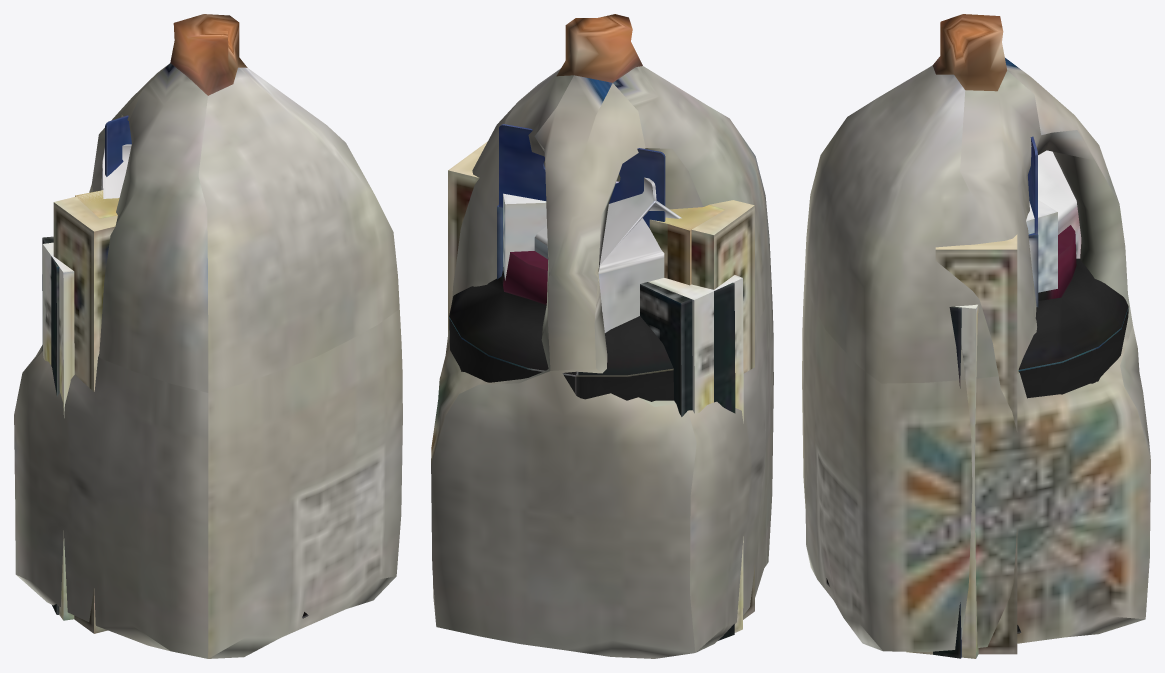
The model's file is sm_products_optimised.glb.
The picture shows the model from 3 angles, left to right: view 1: azimuth 30°, elevation 25°; view 2: azimuth 150°, elevation 25°; view 3: azimuth 270°, elevation 25°; orthographic projection.
Parts seen in each view (by area): view 1: bleach, porridge, cereal, detergent_powder_b, pasta, juice_carton, coffee_box; view 2: bleach, protein_jar, porridge, juice_carton, detergent_powder_b, pasta, cereal, salt, coffee_box; view 3: bleach, protein_jar, porridge, cereal, juice_carton, salt, pasta, detergent_powder_b.
Part boxes in pixels (x1=…): bleach: x1=14, y1=14, x2=402, y2=658; porridge: x1=53, y1=190, x2=117, y2=633; cereal: x1=42, y1=242, x2=74, y2=620; detergent_powder_b: x1=42, y1=236, x2=59, y2=614; pasta: x1=105, y1=115, x2=131, y2=176; juice_carton: x1=101, y1=144, x2=131, y2=198; coffee_box: x1=75, y1=190, x2=119, y2=218; bleach: x1=431, y1=14, x2=773, y2=658; protein_jar: x1=449, y1=251, x2=673, y2=401; porridge: x1=448, y1=141, x2=754, y2=619; juice_carton: x1=534, y1=177, x2=681, y2=332; detergent_powder_b: x1=640, y1=282, x2=735, y2=640; pasta: x1=497, y1=124, x2=665, y2=279; cereal: x1=648, y1=275, x2=743, y2=632; salt: x1=503, y1=193, x2=546, y2=280; coffee_box: x1=660, y1=204, x2=724, y2=285; bleach: x1=802, y1=14, x2=1150, y2=651; protein_jar: x1=826, y1=225, x2=1128, y2=633; porridge: x1=935, y1=234, x2=1017, y2=654; cereal: x1=906, y1=304, x2=978, y2=658; juice_carton: x1=1038, y1=150, x2=1081, y2=258; salt: x1=1026, y1=200, x2=1057, y2=292; pasta: x1=1028, y1=136, x2=1038, y2=307; detergent_powder_b: x1=933, y1=306, x2=961, y2=658.
Size of the model in its own units: 0.1676 by 0.3003 by 0.1684.
Materials: 2 (2 with a texture image).
